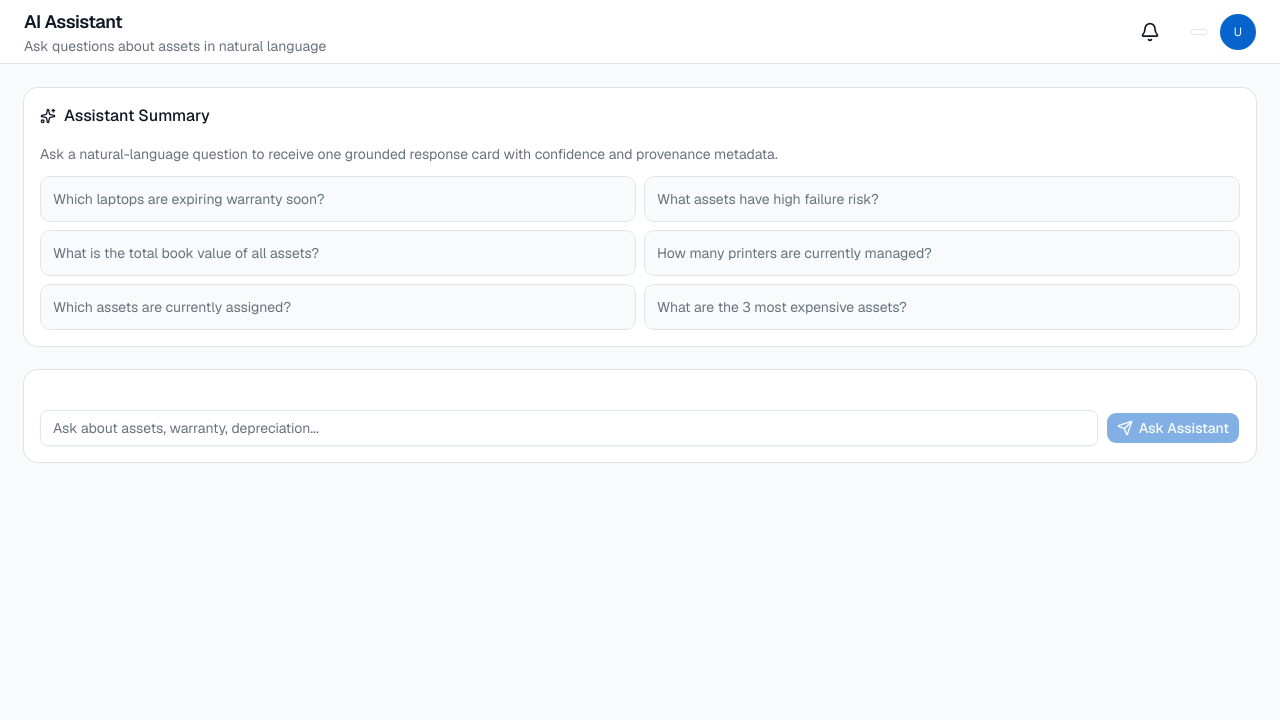
AssistantPage › shows insufficient-data copy with clarifying questions for low-confidence results
In the field with placeholder "Ask about assets, warranty, depreciation...": (569, 428) [40,410,1098,446], type "What is the office occupancy trend by floor?"
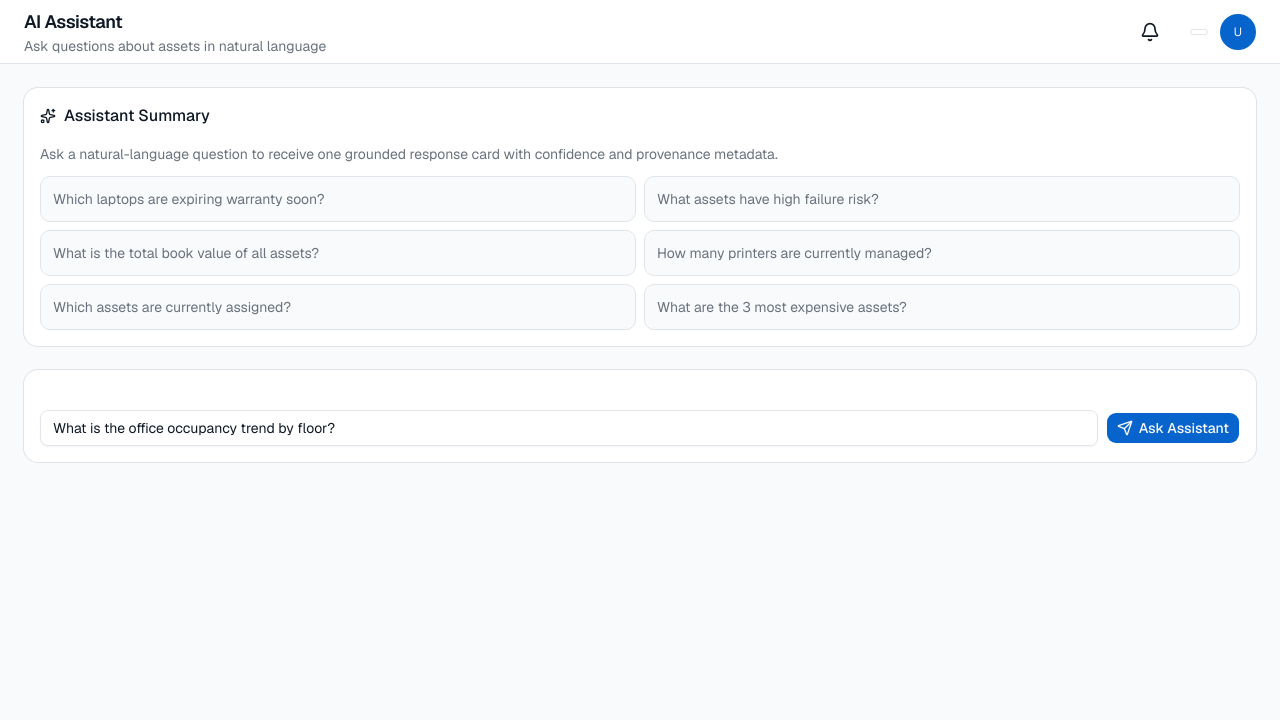
Click the button named "send": click(1173, 428) [1106,412,1240,444]
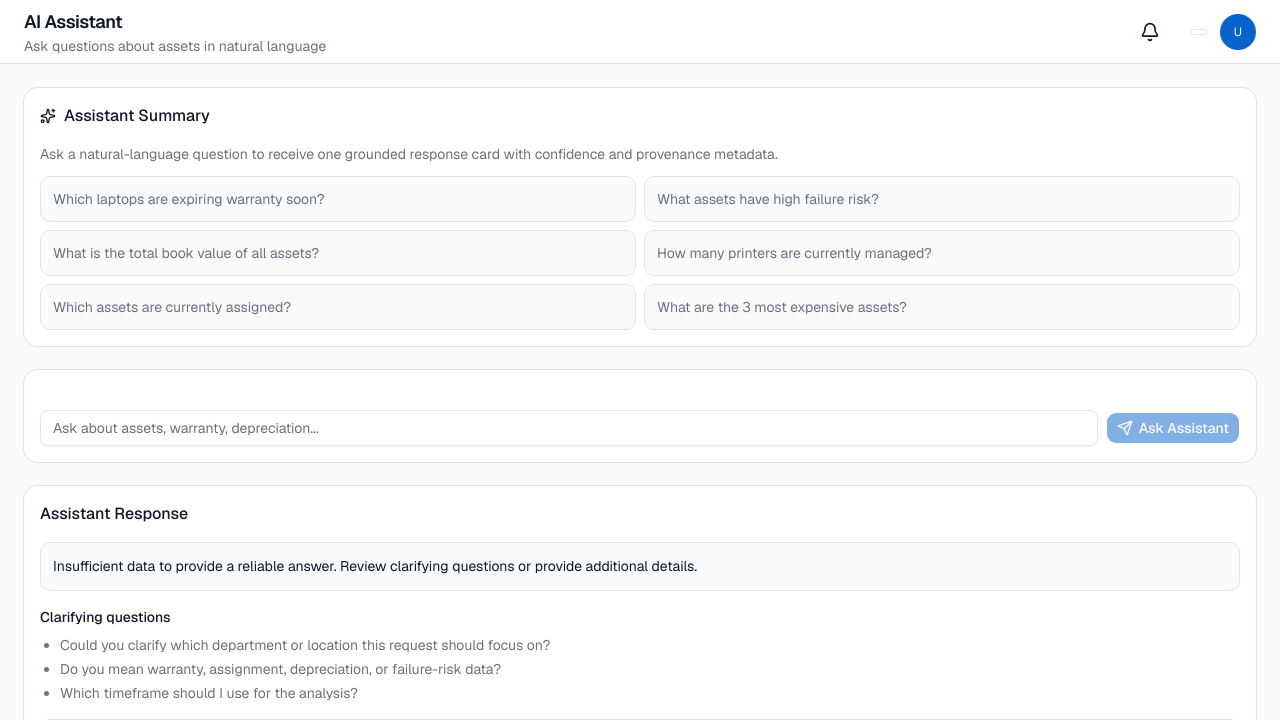
Expected: the text "Insufficient data to provide a reliable answer" is shown, [53,557,697,575]
Expected: the list item "Could you clarify" is shown, [60,636,550,654]
